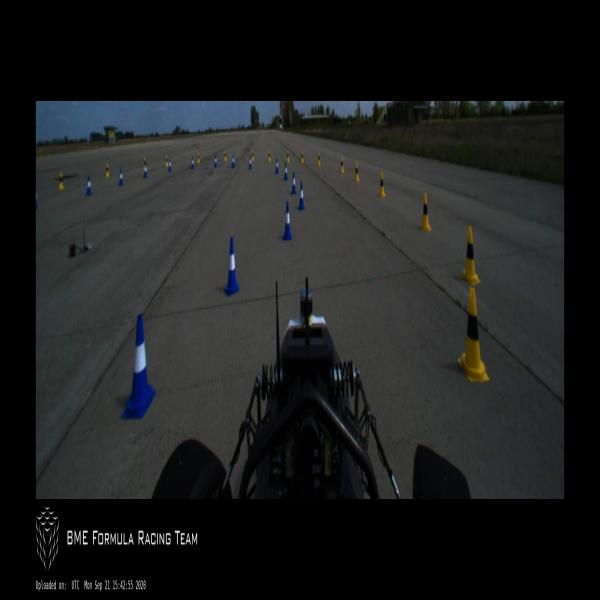blue_cone: (123, 314, 156, 418), (224, 237, 240, 297), (283, 200, 292, 241), (298, 182, 305, 210), (86, 176, 92, 195), (118, 169, 124, 186), (292, 172, 296, 194), (144, 161, 148, 179), (284, 163, 288, 180), (231, 154, 234, 169), (214, 154, 217, 169), (275, 159, 278, 173), (249, 156, 252, 170), (191, 156, 194, 170), (168, 158, 171, 172)
yellow_cone: (458, 288, 489, 383), (460, 227, 480, 284), (420, 193, 430, 231), (379, 172, 385, 198), (58, 173, 64, 190), (354, 162, 359, 182), (340, 156, 344, 173), (106, 162, 110, 178), (165, 154, 168, 168), (143, 157, 146, 170), (300, 150, 303, 163), (268, 150, 271, 162), (286, 150, 289, 162), (197, 153, 200, 164), (318, 151, 320, 166), (252, 150, 254, 162), (225, 150, 226, 162)
